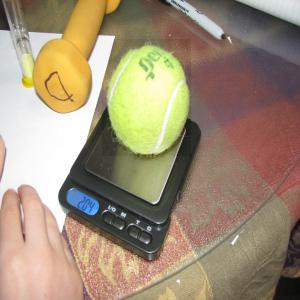TennisBall: (103, 41, 193, 159)
